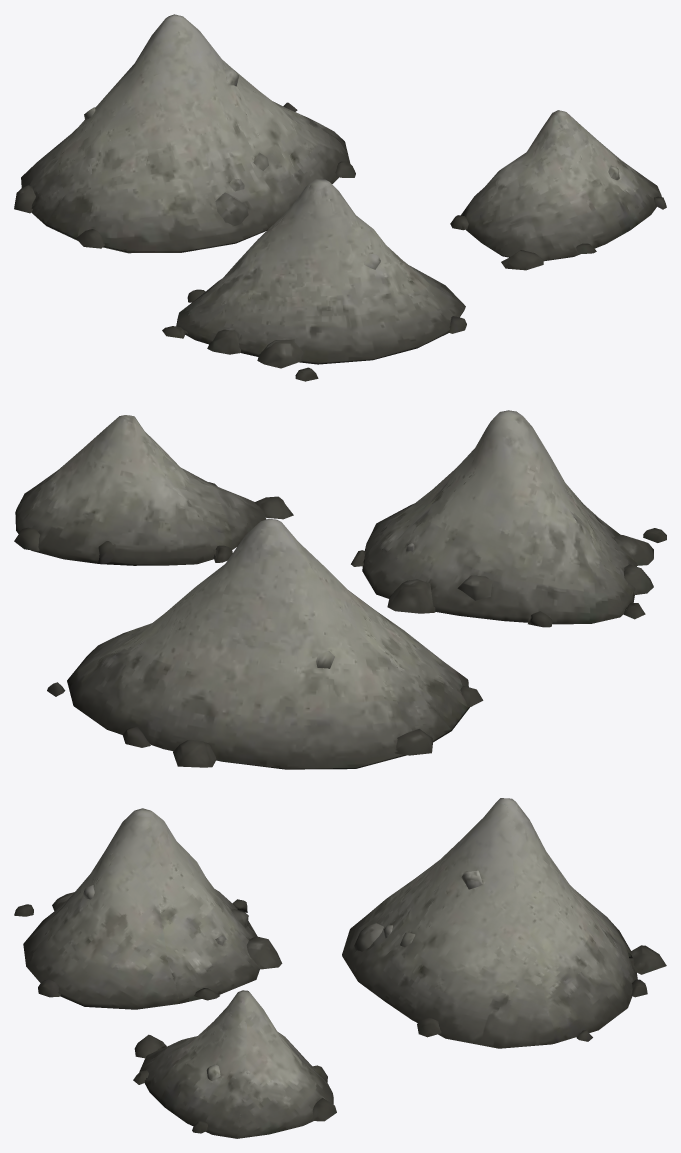
The picture shows the model from 3 angles, top to bottom: view 1: azimuth 30°, elevation 25°; view 2: azimuth 150°, elevation 25°; view 3: azimuth 270°, elevation 25°; orthographic projection. The views are drawn at different scales.
Parts seen in each view (by area): view 1: SM_Ground_Dragon_Tooth_LOD0; view 2: SM_Ground_Dragon_Tooth_LOD0; view 3: SM_Ground_Dragon_Tooth_LOD0.
Part boxes in pixels (x1,y1,x2,y2): SM_Ground_Dragon_Tooth_LOD0: (14,14,666,381); SM_Ground_Dragon_Tooth_LOD0: (14,410,666,769); SM_Ground_Dragon_Tooth_LOD0: (14,798,666,1138).
Bounding box in the file's own units: 0.3994 × 0.1211 × 0.4248.
1 material, 1 textured.
